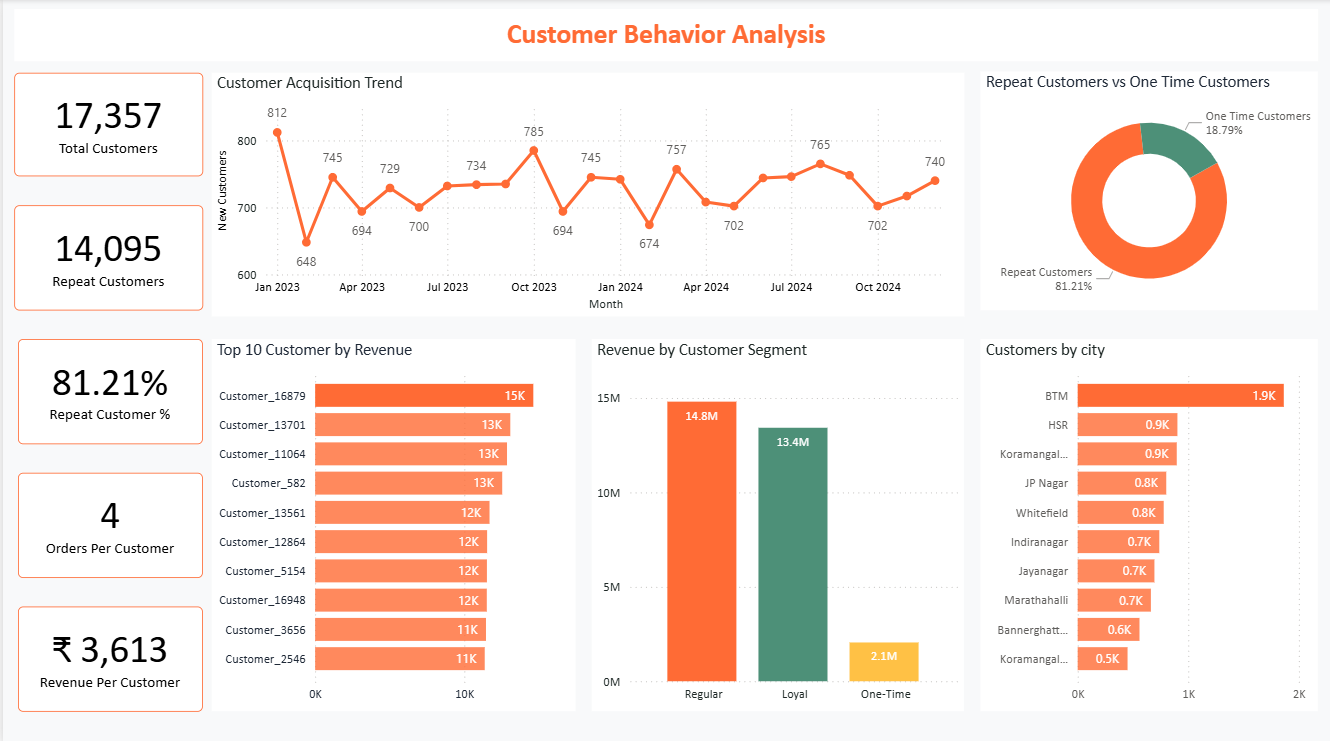

The dashboard page shown, as its layout file describes it:
{"tool":"powerbi","page":{"name":"Customer Analytics","canvas":[1280,720],"ordinal":1},"visuals":[{"type":"textbox","box":[10.9,9.7,1258.3,50.7],"z":0},{"type":"cardVisual","fields":{"Data":["Measure.Total Customers"]},"box":[10.9,71.2,182.2,100.1],"z":1000},{"type":"cardVisual","fields":{"Data":["Measure.Repeat Customers"]},"box":[10.9,199.1,182.2,101.3],"z":2000},{"type":"clusteredColumnChart","title":"Revenue by Customer Segment","fields":{"Category":["customers.customer_segment"],"Y":["Measure.Total Revenue"]},"box":[568.2,328.2,359.5,359.5],"z":3000},{"type":"lineChart","title":"Customer Acquisition Trend","fields":{"Y":["Measure.New Customers"],"Category":["customers.signup_date.Variation.Date Hierarchy.Year","customers.signup_date.Variation.Date Hierarchy.Quarter","customers.signup_date.Variation.Date Hierarchy.Month"]},"box":[201.5,71.2,726.3,235.3],"z":4000},{"type":"cardVisual","fields":{"Data":["Measure.Repeat Customer %"]},"box":[14.5,328.2,178.6,101.3],"z":5000},{"type":"cardVisual","fields":{"Data":["Measure.Orders Per Customer"]},"box":[14.5,457.2,178.6,101.3],"z":6000},{"type":"cardVisual","fields":{"Data":["Measure.Average Customer Spend"]},"box":[14.5,586.3,178.6,101.3],"z":7000},{"type":"barChart","title":"Top 10 Customer by Revenue","fields":{"Category":["customers.customer_name"],"Y":["Measure.Total Revenue"]},"box":[201.5,328.2,351.1,359.5],"z":8000},{"type":"donutChart","title":"Repeat Customers vs One Time Customers","fields":{"Y":["Measure.Repeat Customers","Measure.One Time Customers"]},"box":[943.4,70,325.7,230.4],"z":9000},{"type":"barChart","title":"Customers by city","fields":{"Category":["customers.city"],"Y":["Measure.Total Customers"]},"box":[943.4,328.2,325.7,359.5],"z":10000}]}

Visuals, with their boxes in screenshot pixels (x1, y1, x2, y2), scaled from the page's 1280x720 canvas onto the 1330x741 screenshot:
textbox: BBox(11, 10, 1319, 62)
cardVisual - Measure.Total Customers: BBox(11, 73, 201, 176)
cardVisual - Measure.Repeat Customers: BBox(11, 205, 201, 309)
"Revenue by Customer Segment" clusteredColumnChart: BBox(590, 338, 964, 708)
"Customer Acquisition Trend" lineChart: BBox(209, 73, 964, 315)
cardVisual - Measure.Repeat Customer %: BBox(15, 338, 201, 442)
cardVisual - Measure.Orders Per Customer: BBox(15, 471, 201, 575)
cardVisual - Measure.Average Customer Spend: BBox(15, 603, 201, 708)
"Top 10 Customer by Revenue" barChart: BBox(209, 338, 574, 708)
"Repeat Customers vs One Time Customers" donutChart: BBox(980, 72, 1319, 309)
"Customers by city" barChart: BBox(980, 338, 1319, 708)
